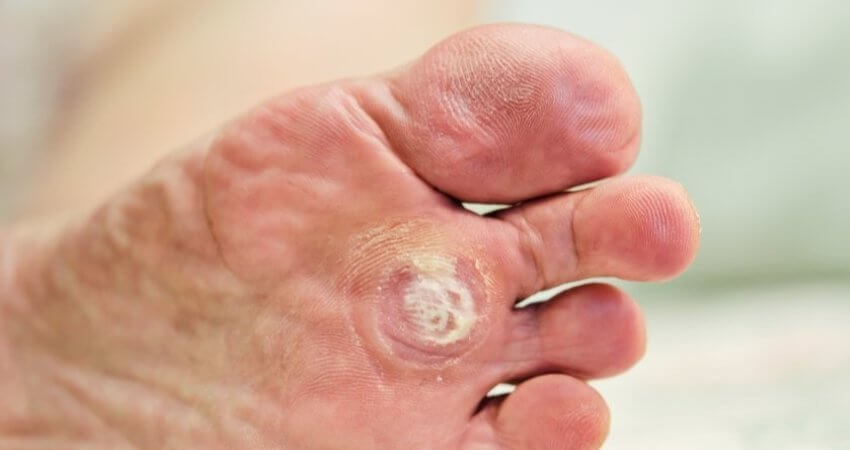Warts: (330, 222, 505, 385)
